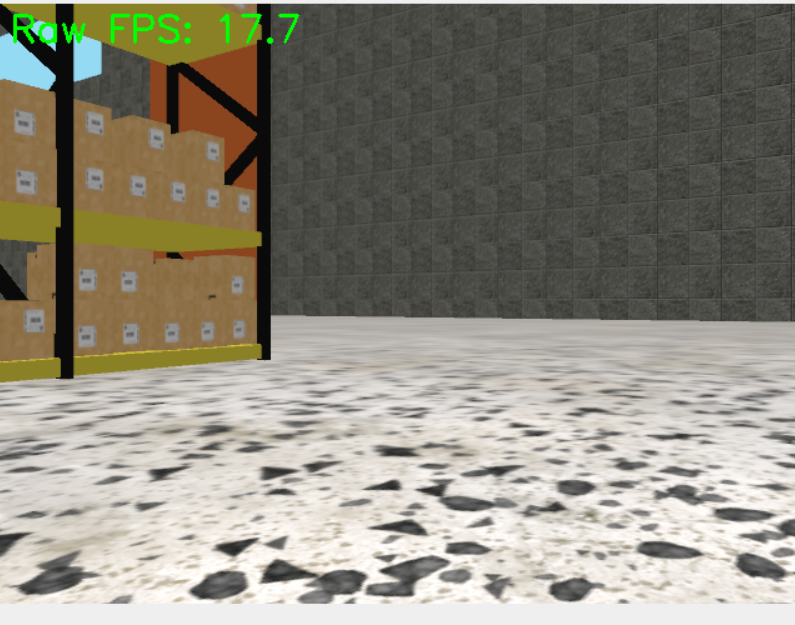barcode: (13, 109, 36, 138), (23, 308, 45, 335), (16, 169, 37, 195), (77, 325, 97, 349), (86, 167, 104, 192), (87, 111, 104, 137), (79, 269, 96, 291), (130, 175, 146, 197), (122, 324, 138, 346), (150, 127, 165, 150), (164, 322, 178, 345), (121, 272, 136, 293), (230, 274, 244, 296), (233, 320, 247, 341), (200, 322, 214, 342), (173, 182, 186, 203), (207, 141, 220, 161), (239, 194, 251, 213), (208, 189, 219, 207)
